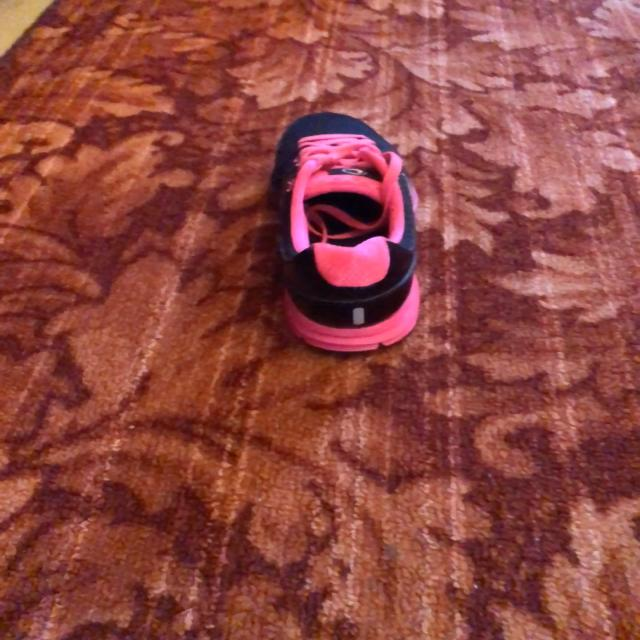shoe: (272, 113, 423, 357)
